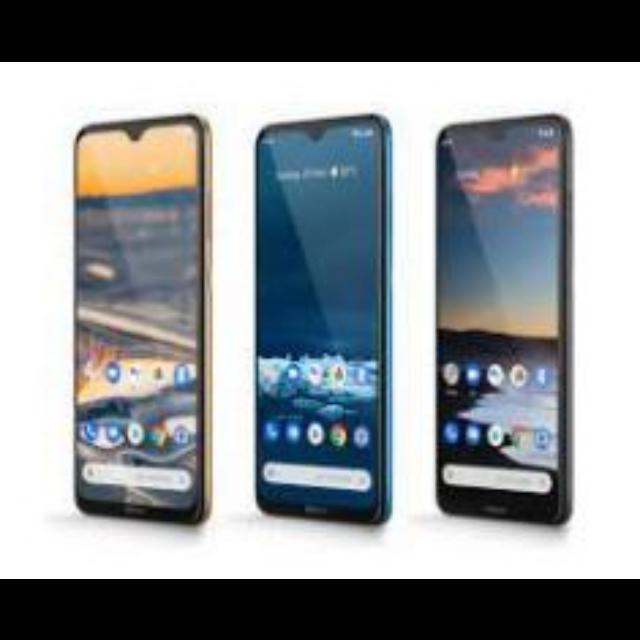phone: (251, 111, 395, 531), (437, 107, 575, 523), (72, 115, 206, 532)
